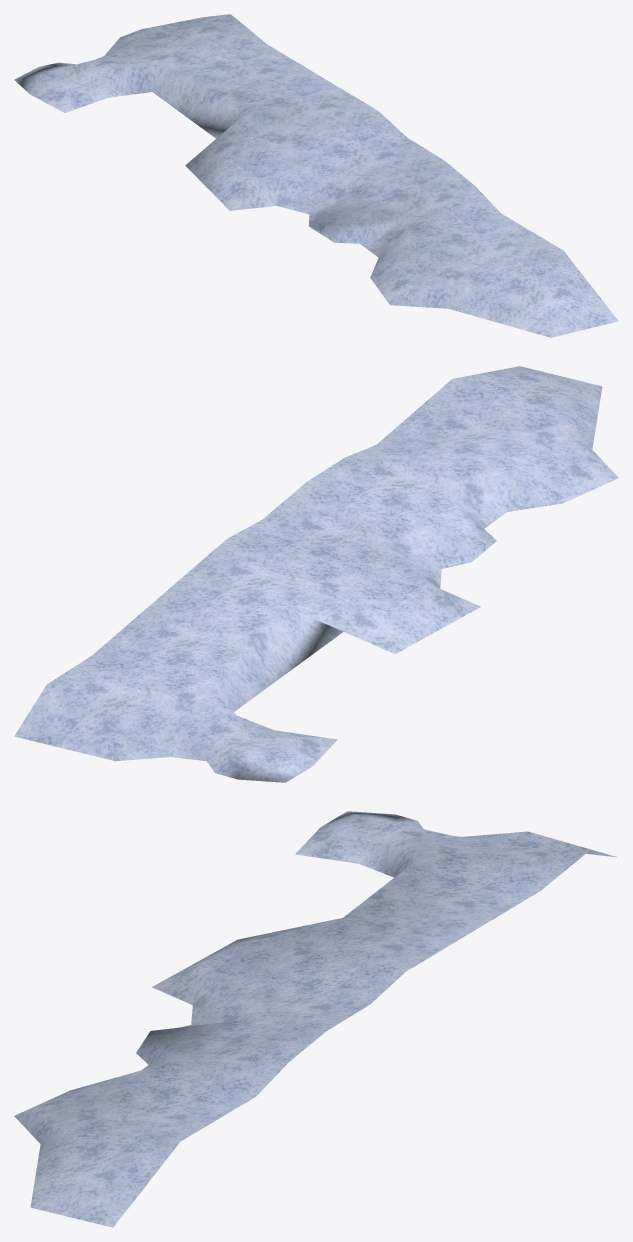
File: iced_ground.FBX
The picture shows the model from 3 angles, top to bottom: view 1: azimuth 30°, elevation 25°; view 2: azimuth 150°, elevation 25°; view 3: azimuth 330°, elevation 25°; orthographic projection. The views are drawn at different scales.
Parts seen in each view (by area): view 1: Box01; view 2: Box01; view 3: Box01.
Part boxes in pixels (x1=…): Box01: x1=14, y1=14, x2=618, y2=337; Box01: x1=14, y1=366, x2=618, y2=782; Box01: x1=14, y1=811, x2=617, y2=1227.
Bounding box in the file's own units: 20.43 × 70.26 × 3.2.
